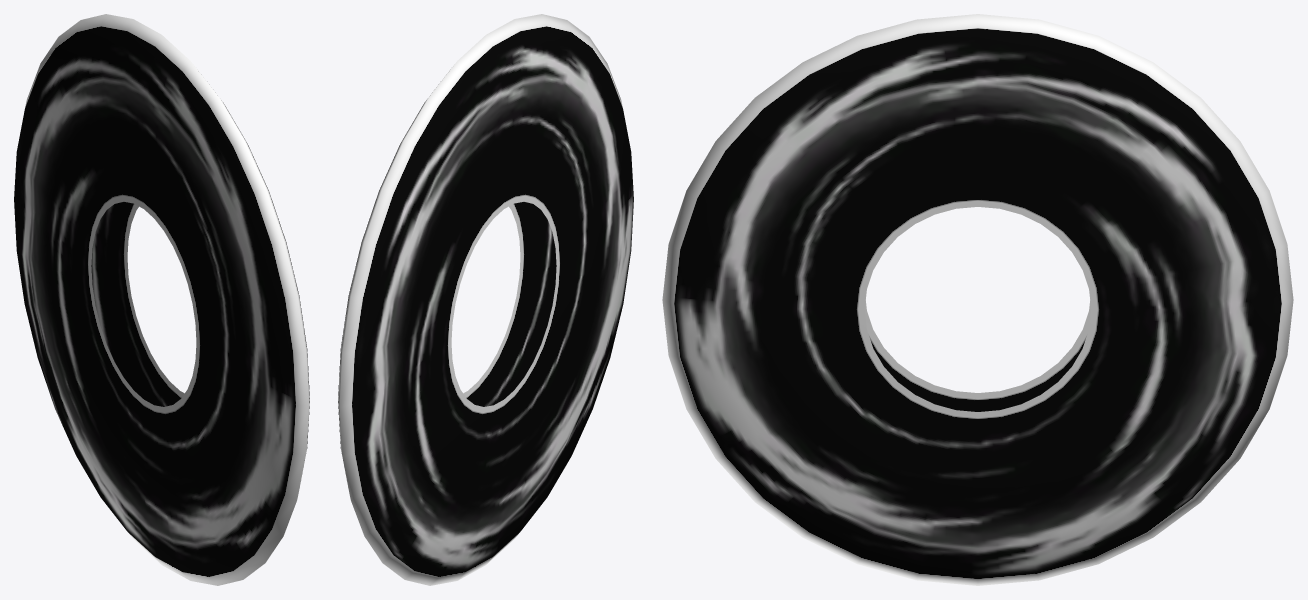
The model's file is Orange_Skill_Torus02.FBX.
3 views of the same model, side by side, from view 1: azimuth 30°, elevation 25°; view 2: azimuth 150°, elevation 25°; view 3: azimuth 270°, elevation 25° (orthographic). The views are drawn at different scales.
Parts seen in each view (by area): view 1: Orange_Skill_Torus02; view 2: Orange_Skill_Torus02; view 3: Orange_Skill_Torus02.
Part boxes in pixels (x1=…): Orange_Skill_Torus02: x1=14, y1=14, x2=309, y2=585; Orange_Skill_Torus02: x1=338, y1=14, x2=633, y2=585; Orange_Skill_Torus02: x1=662, y1=14, x2=1293, y2=585.
Bounding box in the file's own units: 22.65 × 318 × 318.
